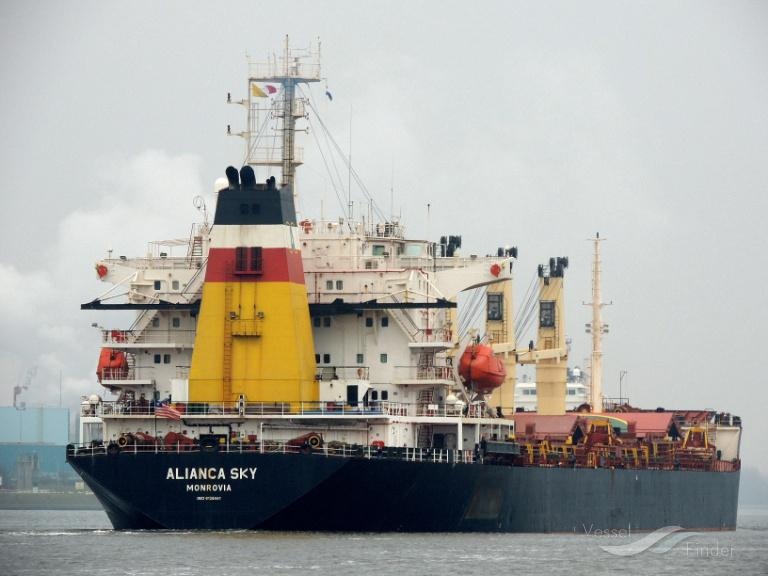OCR: (152, 460, 262, 505)
